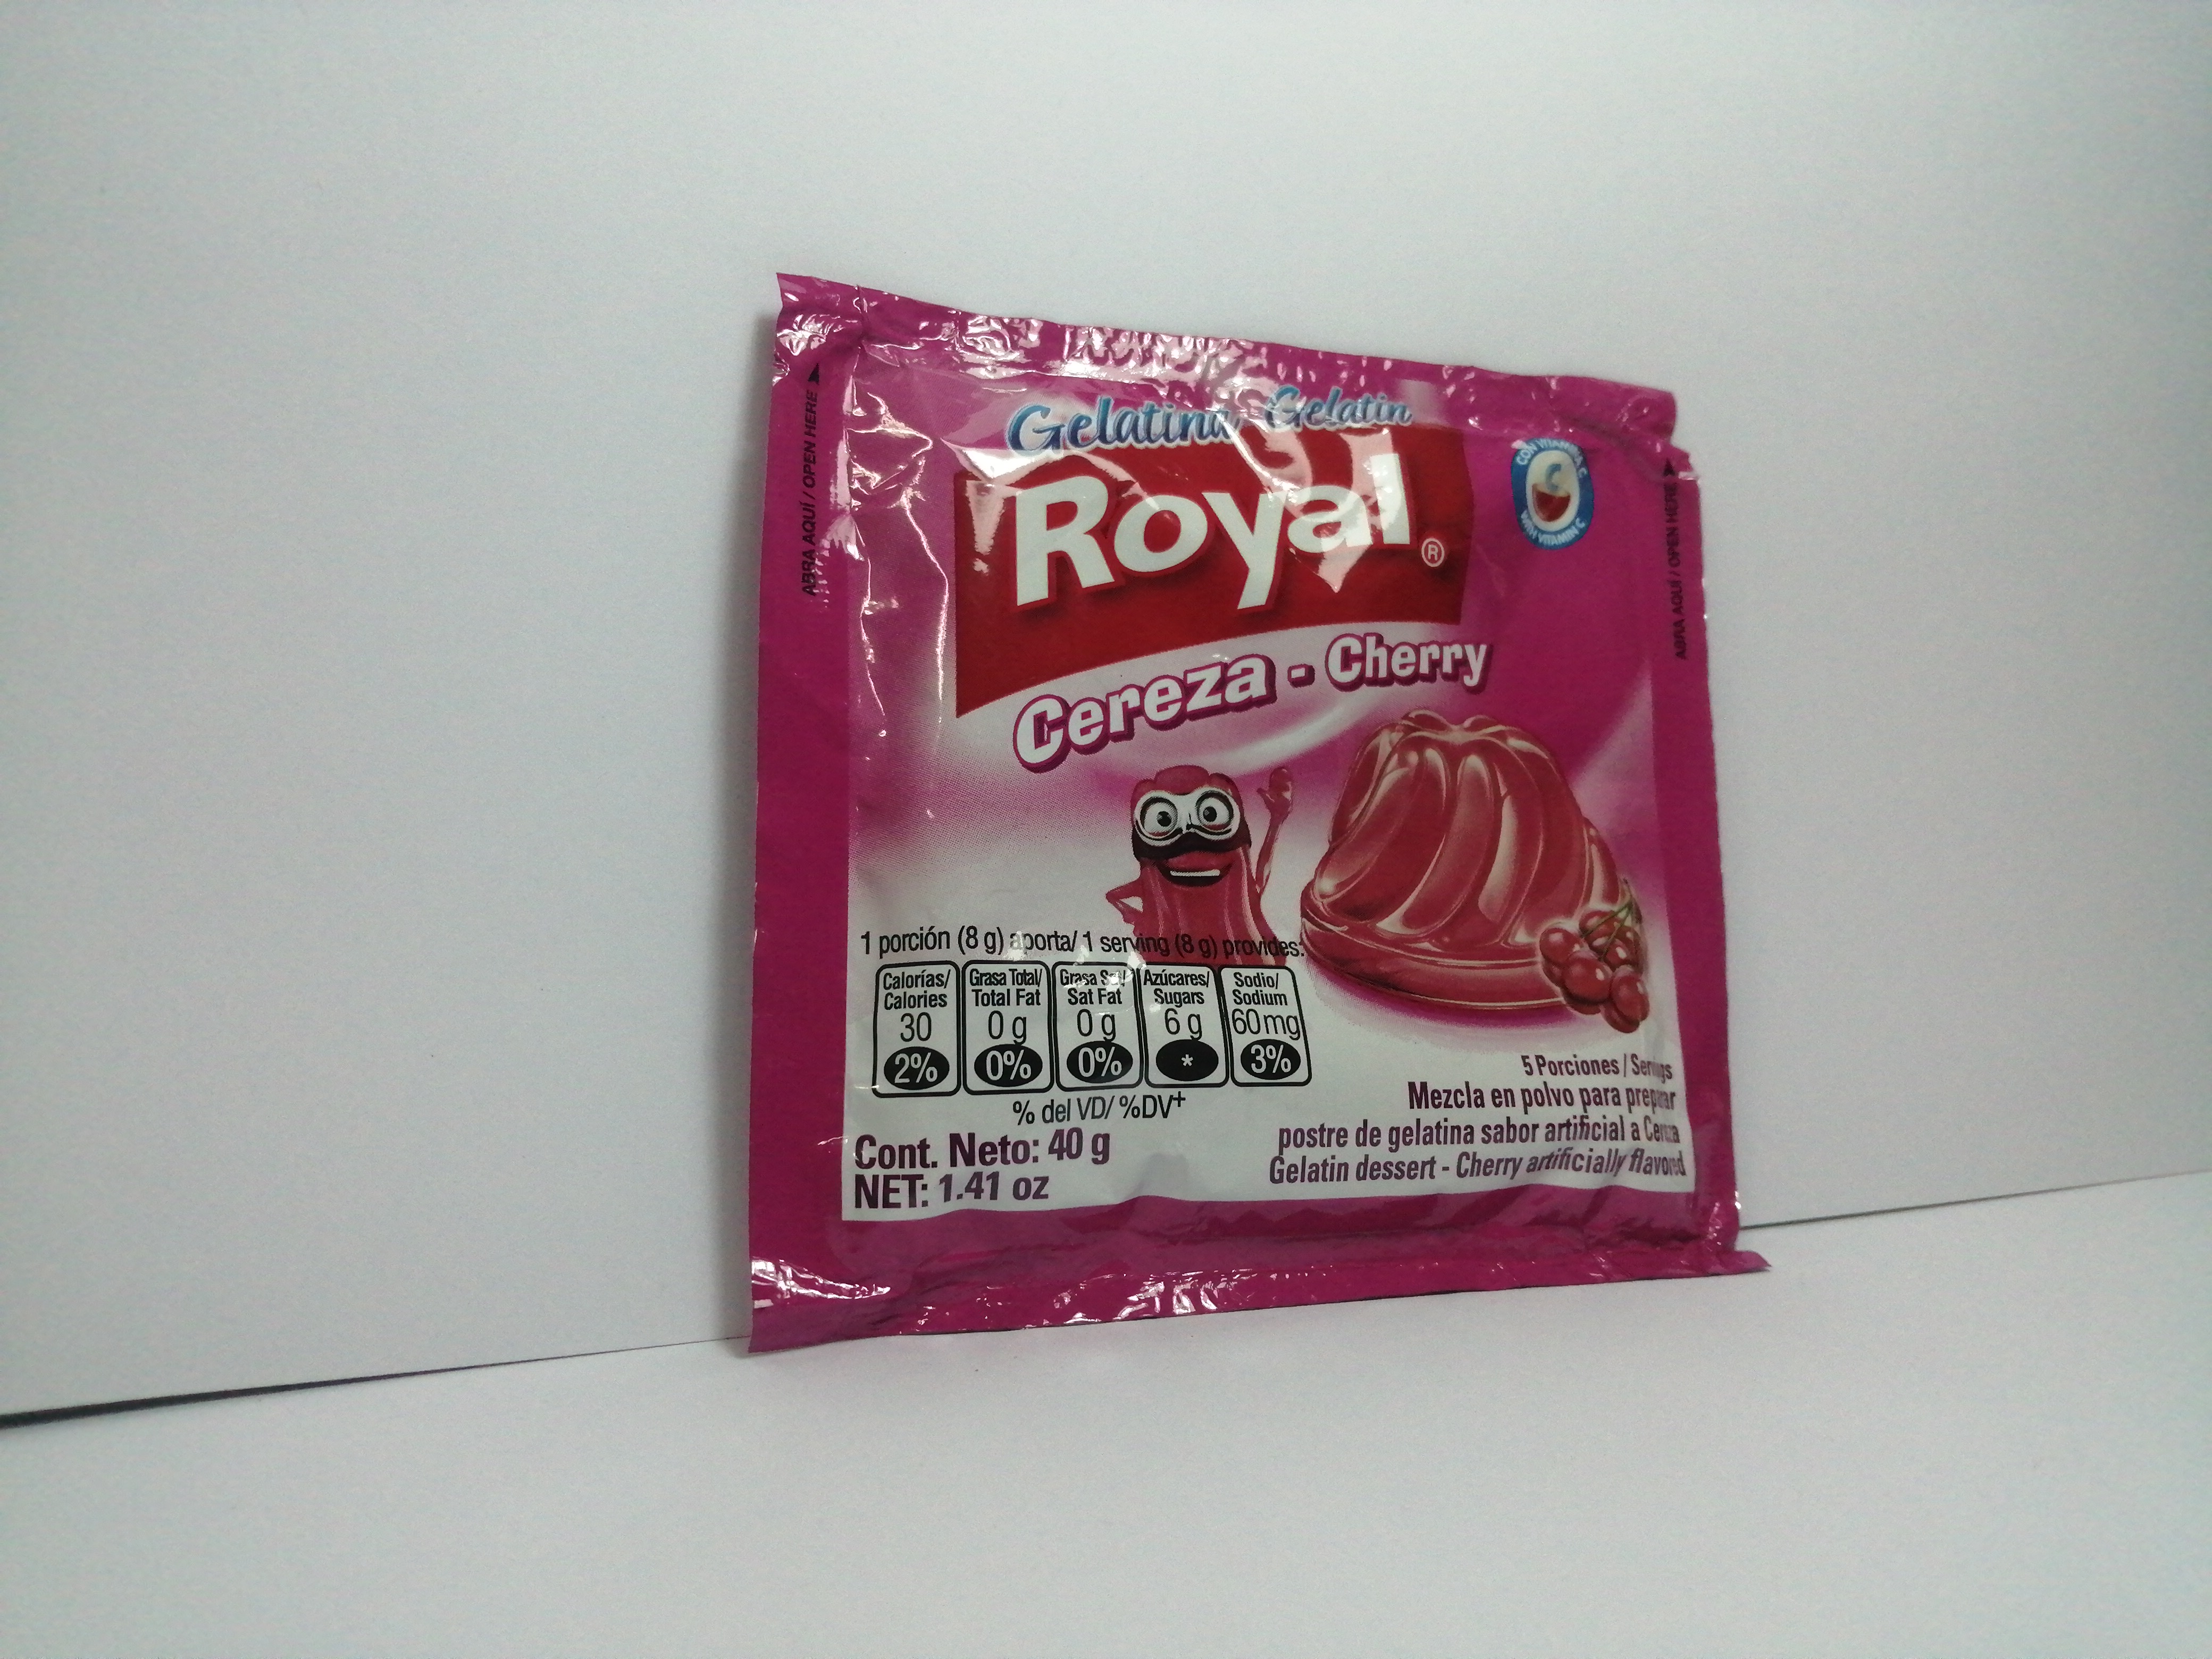gelatina: (744, 274, 1782, 1361)
